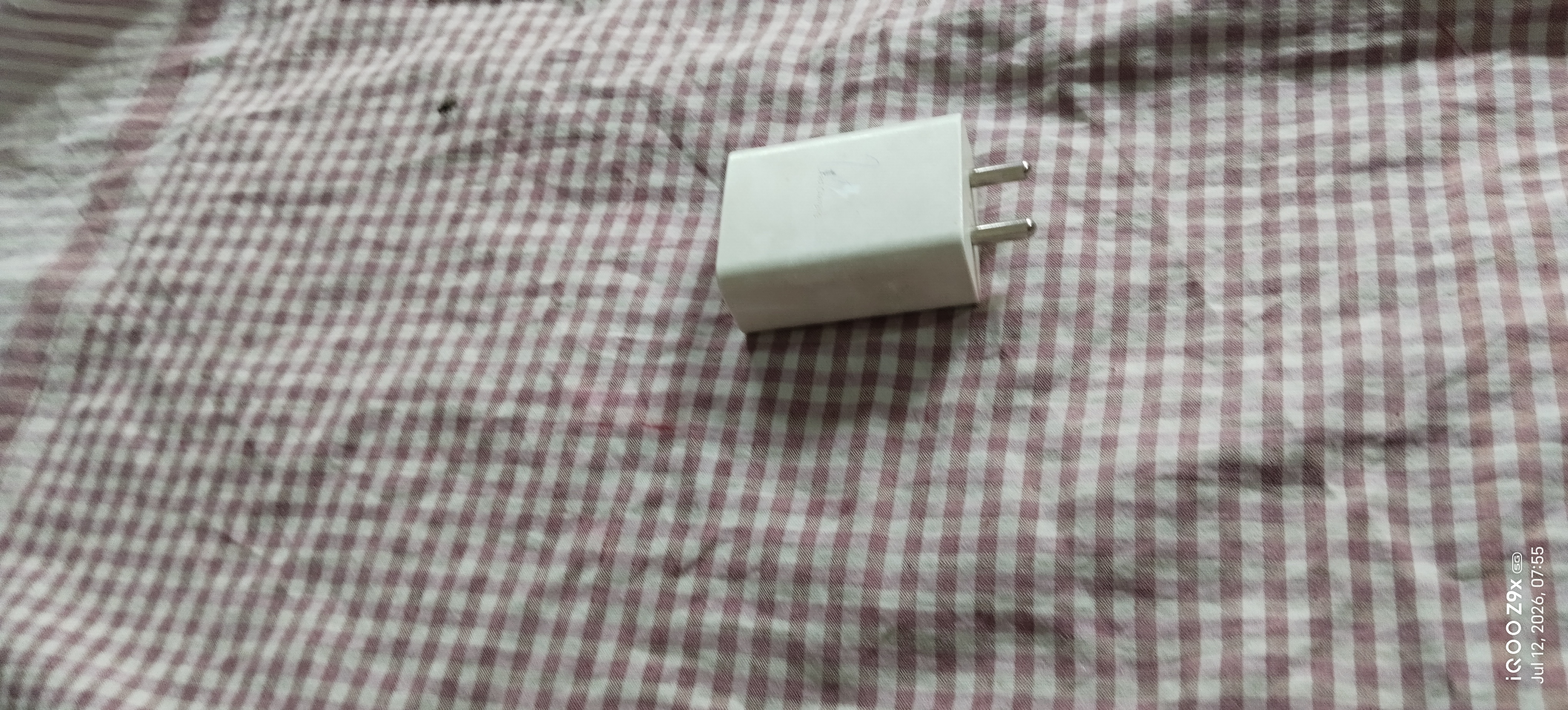charger: (685, 102, 1040, 350)
